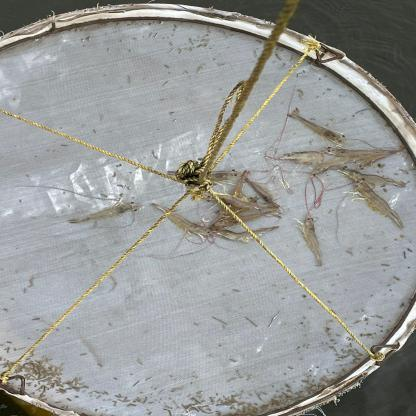shrimp: (354, 178, 404, 229), (150, 203, 215, 238), (285, 109, 349, 143), (69, 200, 145, 224), (199, 191, 276, 210), (336, 165, 405, 186), (241, 176, 279, 212), (356, 146, 406, 173), (208, 225, 280, 243), (210, 209, 278, 227), (308, 157, 360, 179), (303, 214, 324, 267), (319, 146, 400, 159), (278, 151, 326, 165), (229, 170, 250, 197), (210, 168, 242, 182)
